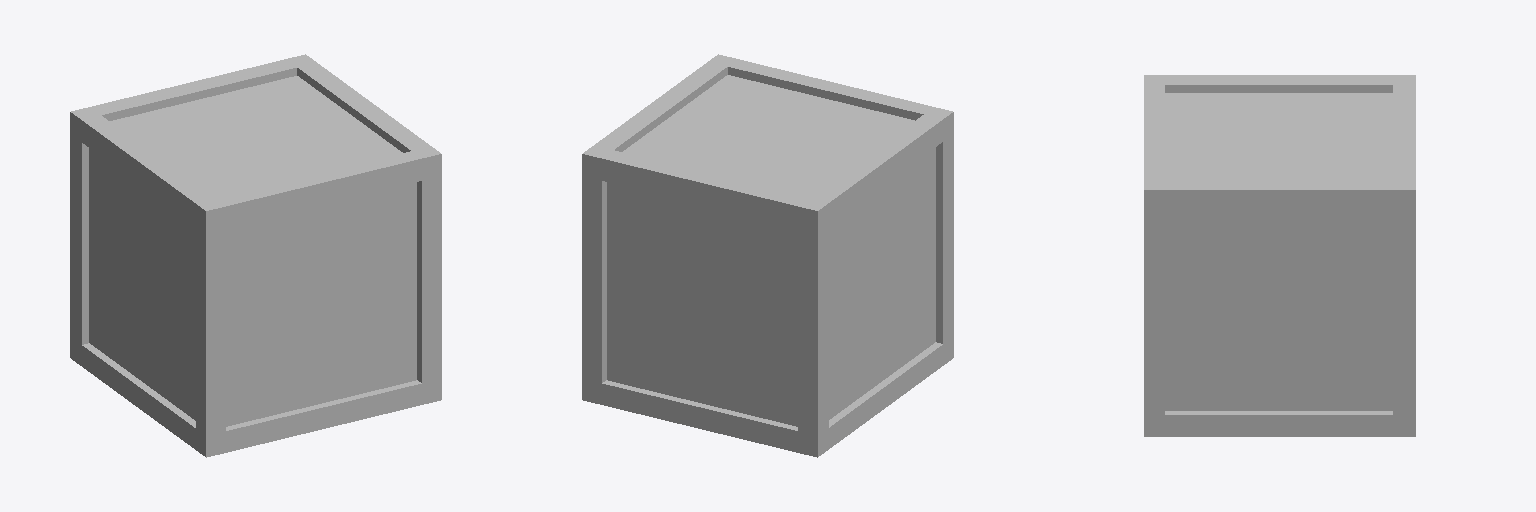
File: BoxCrate.obj
3 renders of one model, left to right at view 1: azimuth 30°, elevation 25°; view 2: azimuth 150°, elevation 25°; view 3: azimuth 270°, elevation 25°, orthographic.
Parts seen in each view (by area): view 1: pCube1; view 2: pCube1; view 3: pCube1.
Boxes of the visible parts, x1,y1,x2,y2 form: pCube1: [70, 54, 441, 457]; pCube1: [582, 54, 953, 457]; pCube1: [1144, 75, 1415, 436].
Bounding box in the file's own units: 1 × 1 × 1.